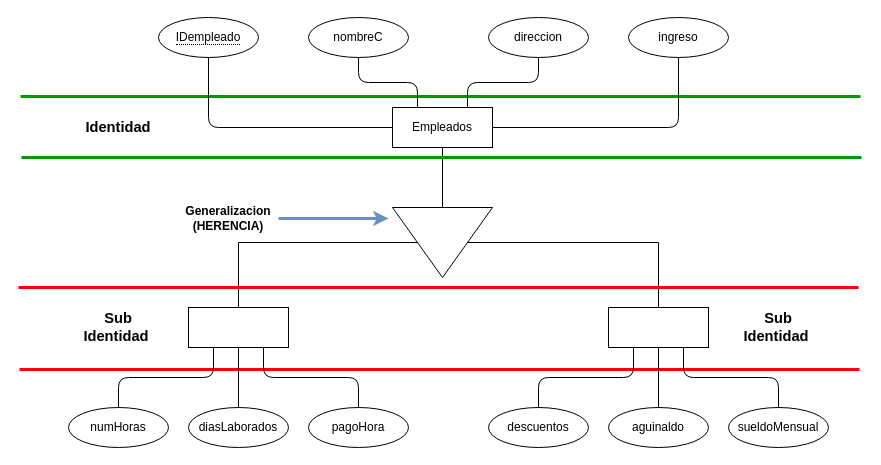
Some shapes in this 881 by 465 pixel diagram are drawn without their labels. The shapes that lost their labels are listed below. From the top down, each one's centre as x and y in pixels, then its label:
pixel 442 242: Tipo contrato
pixel 238 327: por hora
pixel 658 327: tiempo completo
